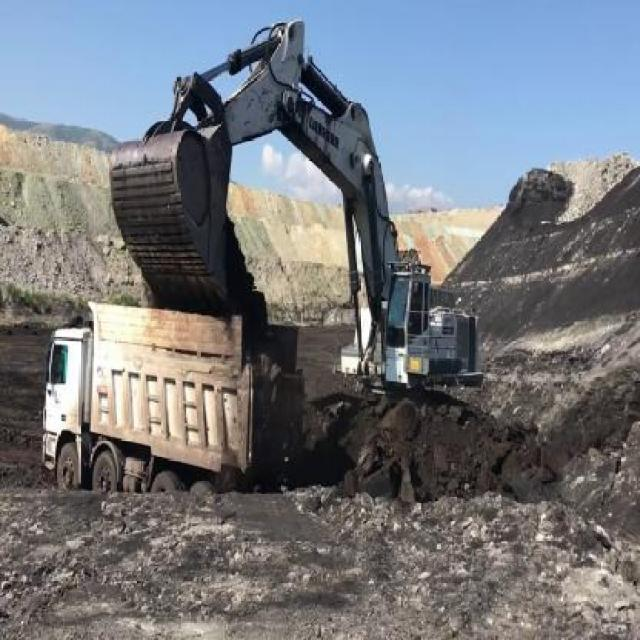Dump Truck: (39, 298, 306, 494)
Excavator: (105, 13, 483, 402)
